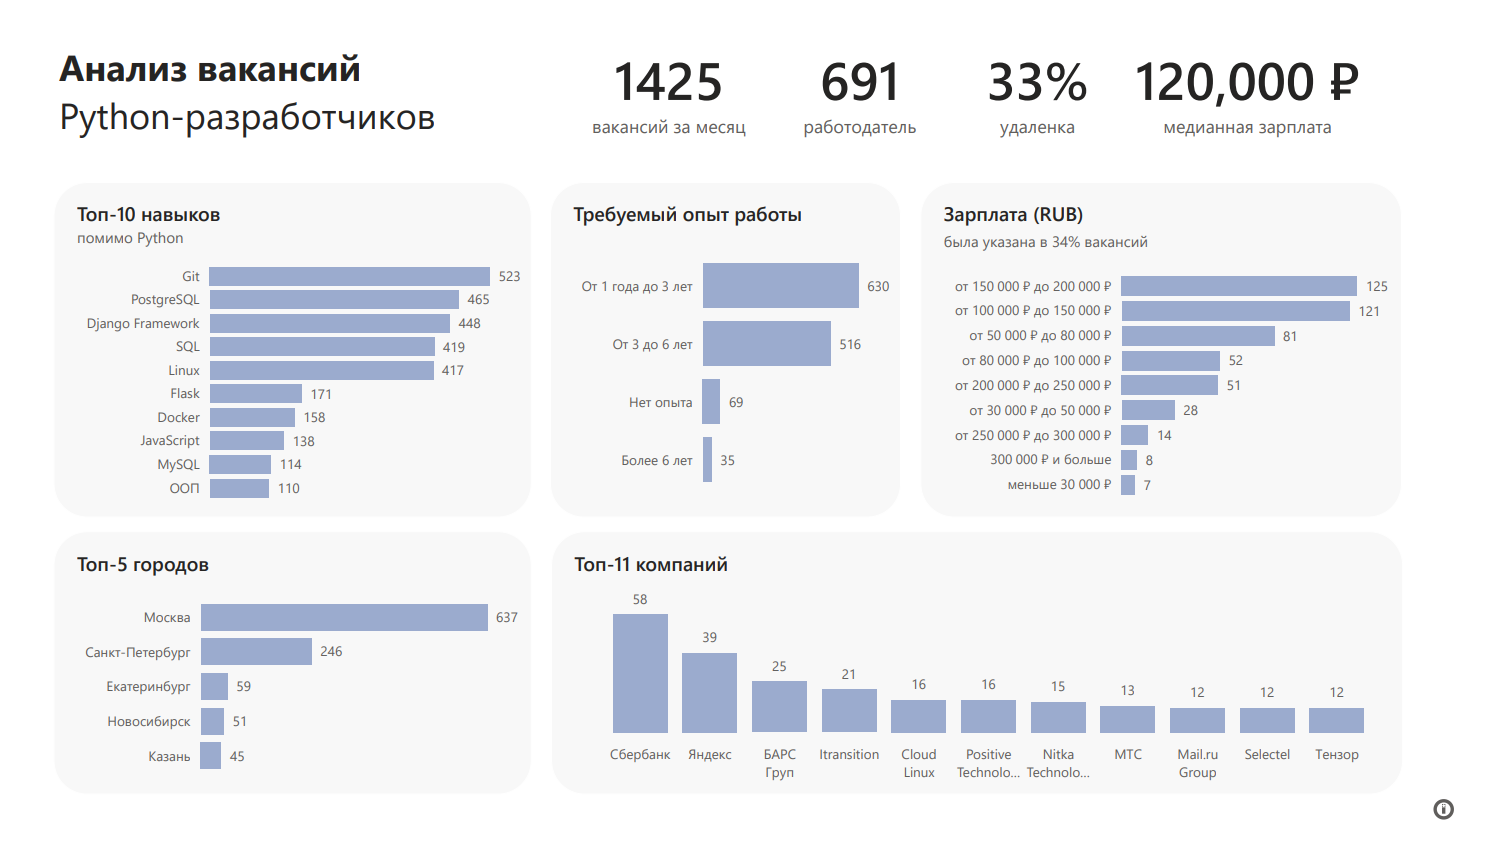

What the dashboard file says about the page in this screenshot:
{"tool":"powerbi","page":{"name":"анализ вакансий python-разработчиков","canvas":[1280,720],"ordinal":0},"visuals":[{"type":"textbox","title":"Дашборд для соискателей (Python-разработчики)","box":[26.7,20,353.3,110],"z":0},{"type":"actionButton","box":[1248.7,694.3,31.6,26.1],"z":1000},{"type":"clusteredBarChart","title":"Топ-10 навыков","fields":{"Category":["df2021-08-03.skills"],"Y":["CountNonNull(df2021-08-03.skills)"]},"box":[26.7,150,425,298.3],"z":2000},{"type":"columnChart","title":"Топ-11 компаний","fields":{"Category":["df2021-08-03.employer"],"Y":["Count(df2021-08-03.id)"]},"box":[469,460,756.5,234.5],"z":3000},{"type":"barChart","title":"Зарплата (RUB)","fields":{"Category":["df2021-08-03.salary_bin"],"Y":["Count(df2021-08-03.id)"]},"box":[796.7,150,428.3,298.3],"z":4000},{"type":"card","fields":{"Values":["Count(df2021-08-03.id)"]},"box":[500,20,148.3,96.7],"z":6000},{"type":"card","fields":{"Values":["Count(df2021-08-03.employer)"]},"box":[680,20,126.7,96.7],"z":7000},{"type":"card","fields":{"Values":["Median(df2021-08-03.salary_rur)"]},"box":[963.3,20,250,96.7],"z":8000},{"type":"barChart","title":"Требуемый опыт работы","fields":{"Category":["df2021-08-03.experience"],"Y":["Count(df2021-08-03.id)"]},"box":[468.3,150,311.7,298.3],"z":9000},{"type":"barChart","title":"Топ-5 городов","fields":{"Category":["df2021-08-03.area"],"Y":["Count(df2021-08-03.id)"]},"box":[27.2,460,425.2,234.5],"z":10000},{"type":"card","fields":{"Values":["df2021-08-03.test_percentage"]},"box":[840,20,123.3,96.7],"z":12000}]}

Visuals, with their boxes in screenshot pixels (x1, y1, x2, y2), scaled from the page's 1280x720 canvas onto the 1485x846 screenshot:
"Дашборд для соискателей (Python-разработчики)" textbox: [31,24,441,153]
actionButton: [1449,816,1484,845]
"Топ-10 навыков" clusteredBarChart: [31,176,524,527]
"Топ-11 компаний" columnChart: [544,540,1422,816]
"Зарплата (RUB)" barChart: [924,176,1421,527]
card - Count(df2021-08-03.id): [580,24,752,137]
card - Count(df2021-08-03.employer): [789,24,936,137]
card - Median(df2021-08-03.salary_rur): [1118,24,1408,137]
"Требуемый опыт работы" barChart: [543,176,905,527]
"Топ-5 городов" barChart: [32,540,525,816]
card - df2021-08-03.test_percentage: [975,24,1118,137]
